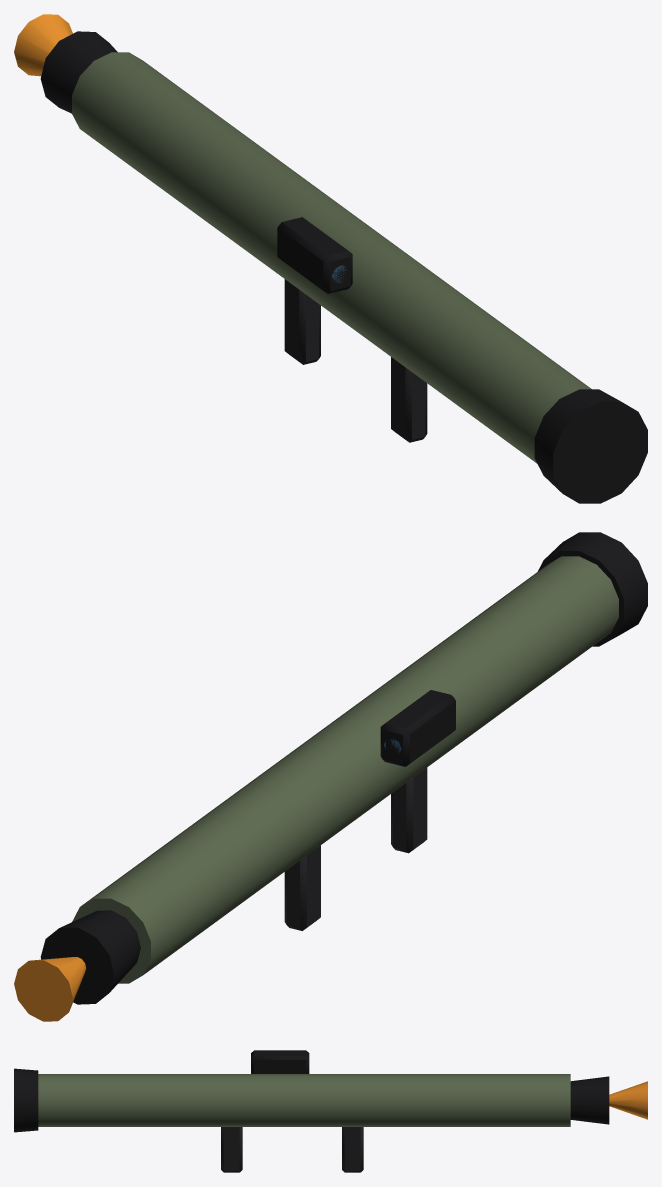
File: rpg.glb
The picture shows the model from 3 angles, top to bottom: view 1: azimuth 30°, elevation 25°; view 2: azimuth 150°, elevation 25°; view 3: azimuth 270°, elevation 25°; orthographic projection. The views are drawn at different scales.
Visible parts, largest first — view 1: rpg__Body; view 2: rpg__Body; view 3: rpg__Body.
Boxes of the visible parts, box(x1,y1,x2,y2) form: rpg__Body: box(14, 14, 647, 503); rpg__Body: box(14, 532, 647, 1021); rpg__Body: box(14, 1050, 647, 1172).
Bounding box in the file's own units: 0.1543 × 0.235 × 1.31.
